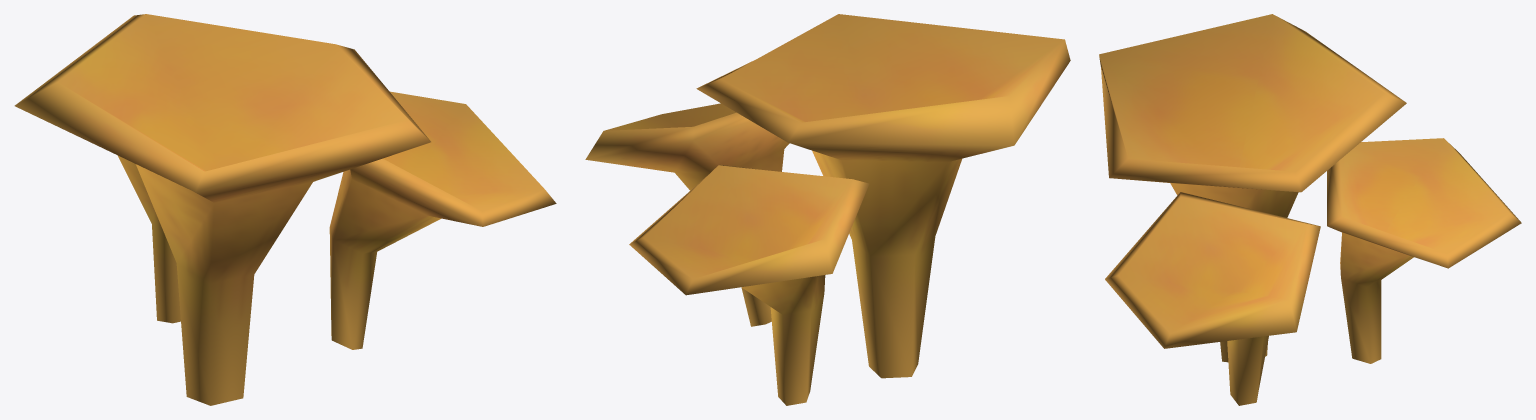
Rendered from Chanterelle01.fbx.
3 views of the same model, side by side, from view 1: azimuth 30°, elevation 25°; view 2: azimuth 150°, elevation 25°; view 3: azimuth 270°, elevation 25° (orthographic). The views are drawn at different scales.
Parts seen in each view (by area): view 1: Chanterelle01; view 2: Chanterelle01; view 3: Chanterelle01.
Boxes of the visible parts, box(x1,y1,x2,y2) form: Chanterelle01: box(14, 14, 556, 405); Chanterelle01: box(585, 14, 1070, 405); Chanterelle01: box(1099, 14, 1521, 405).
Size of the model in its own units: 40.49 by 28.12 by 37.95.
